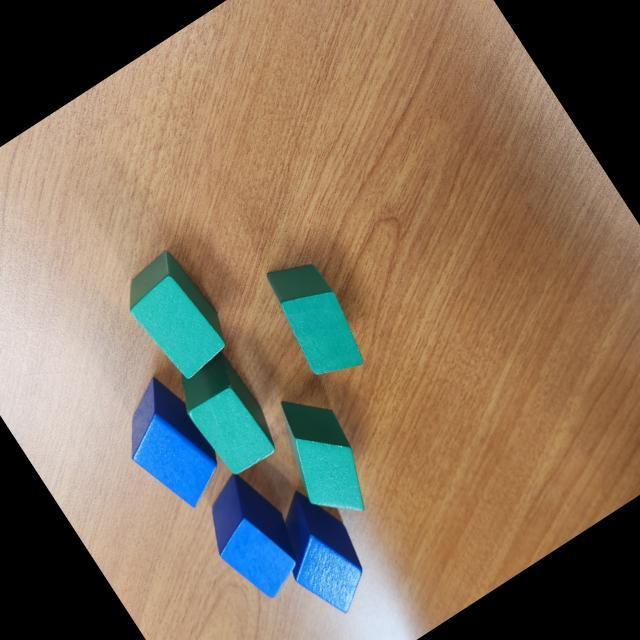blue: (100, 368, 236, 522), (186, 461, 319, 610), (254, 478, 386, 627)
green: (254, 379, 387, 532), (112, 243, 240, 385), (255, 247, 376, 390), (165, 346, 288, 484)
